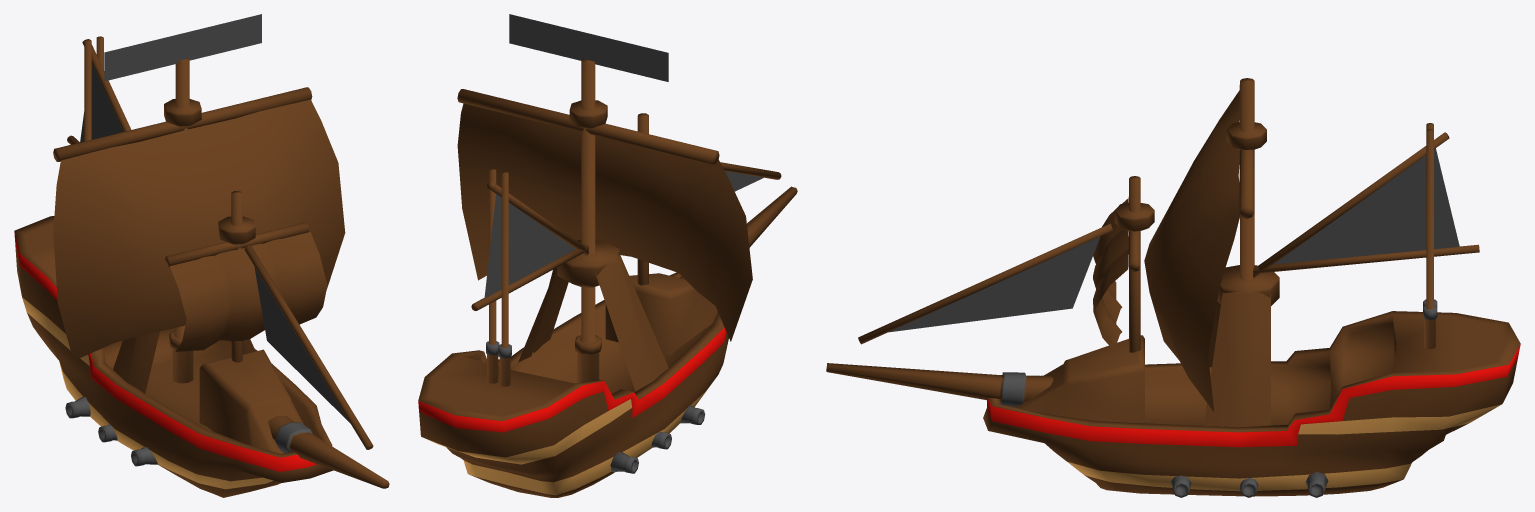
Rendered from ship wtfFFFFFF.fbx.
3 views of the same model, side by side, from view 1: azimuth 30°, elevation 25°; view 2: azimuth 150°, elevation 25°; view 3: azimuth 270°, elevation 25° (orthographic). The views are drawn at different scales.
Parts seen in each view (by area): view 1: ShipBase; view 2: ShipBase; view 3: ShipBase.
Part boxes in pixels (x1,y1,x2,y2): ShipBase: [14, 14, 389, 497]; ShipBase: [418, 14, 797, 497]; ShipBase: [826, 78, 1520, 497].
Bounding box in the file's own units: 329 × 450 × 665.
